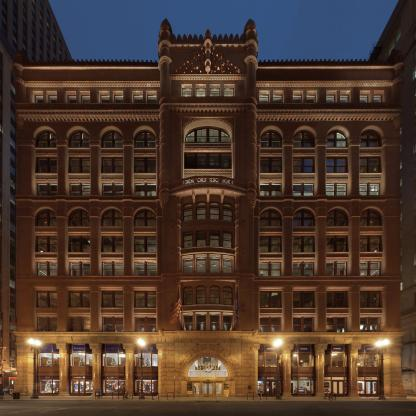Balcony: (170, 175, 247, 196)
Building Outline: (11, 18, 407, 397)
Dont: (374, 339, 391, 400), (27, 338, 42, 399), (274, 338, 283, 400), (137, 338, 145, 399), (123, 390, 133, 400), (324, 392, 336, 400), (11, 392, 21, 399), (95, 389, 102, 399)
Door: (193, 382, 223, 397), (366, 381, 378, 397), (332, 381, 344, 397), (265, 381, 277, 397), (74, 380, 85, 396)
Facade: (17, 63, 401, 397)
Floor: (17, 199, 401, 255), (17, 154, 401, 197), (17, 110, 401, 151), (17, 339, 401, 377), (17, 75, 401, 107), (17, 284, 401, 309), (17, 312, 401, 336), (17, 257, 401, 281)
Floor Slab: (17, 107, 401, 110), (17, 336, 401, 339), (17, 309, 401, 312), (17, 281, 401, 284), (17, 255, 401, 258), (17, 196, 401, 199), (17, 151, 401, 154), (17, 377, 401, 380)
Glass Wall: (201, 356, 215, 377), (187, 358, 200, 377), (216, 358, 228, 377), (298, 381, 310, 394), (139, 380, 151, 393), (139, 354, 151, 367), (106, 354, 118, 367), (73, 354, 85, 367), (40, 354, 52, 367), (40, 380, 52, 393), (107, 380, 118, 393), (266, 354, 277, 367), (299, 354, 310, 367), (332, 354, 343, 367), (366, 354, 376, 367), (324, 381, 331, 394), (291, 381, 297, 394), (358, 381, 364, 394), (53, 380, 59, 393), (152, 380, 158, 393), (120, 380, 126, 393), (54, 354, 60, 367), (152, 354, 158, 367), (119, 354, 125, 367), (87, 354, 93, 367), (258, 354, 264, 367), (292, 354, 298, 367), (324, 354, 330, 367), (358, 354, 364, 367), (86, 381, 92, 393), (258, 381, 264, 393), (333, 382, 337, 394), (339, 382, 343, 394), (373, 382, 377, 394), (367, 382, 371, 394), (74, 381, 78, 393), (136, 380, 139, 393), (135, 354, 138, 367), (278, 354, 281, 367), (80, 381, 83, 393), (312, 381, 314, 394), (103, 380, 105, 393), (103, 354, 105, 367), (71, 354, 73, 367), (312, 354, 314, 367), (345, 354, 347, 367), (345, 381, 346, 394), (378, 354, 379, 367), (280, 381, 281, 393), (72, 381, 73, 393)
Ground Floor: (17, 380, 401, 397)
Molding: (16, 103, 402, 121), (256, 81, 393, 87), (25, 81, 160, 87), (175, 330, 241, 339), (169, 75, 247, 80)
Pillar: (313, 344, 329, 397), (281, 344, 296, 397), (347, 344, 362, 397), (55, 343, 70, 396), (88, 343, 102, 396), (122, 343, 135, 396)
Shop: (365, 345, 377, 352), (140, 345, 151, 352), (265, 346, 277, 352), (73, 345, 85, 351), (258, 377, 281, 380), (291, 377, 313, 380), (332, 346, 343, 352), (299, 346, 310, 352), (107, 345, 118, 351), (41, 345, 52, 351), (103, 377, 125, 379), (71, 377, 92, 379)
Window: (293, 293, 314, 308), (326, 293, 347, 308), (260, 293, 281, 308), (293, 237, 314, 252), (326, 237, 347, 252), (260, 237, 281, 252), (360, 293, 380, 308), (136, 238, 156, 253), (103, 238, 123, 253), (360, 237, 380, 252), (135, 318, 156, 332), (260, 318, 281, 332), (360, 159, 381, 173), (293, 159, 314, 173), (327, 159, 348, 173), (260, 159, 281, 173), (38, 238, 57, 253), (71, 238, 90, 253), (136, 293, 156, 307), (103, 293, 123, 307), (103, 318, 123, 332), (360, 318, 380, 332), (293, 318, 313, 332), (327, 318, 347, 332), (136, 159, 156, 173), (103, 159, 123, 173), (135, 263, 156, 276), (260, 263, 281, 276), (292, 263, 313, 276), (326, 263, 347, 276), (38, 293, 57, 307), (71, 293, 90, 307), (38, 318, 57, 332), (71, 318, 90, 332), (38, 159, 57, 173), (71, 159, 90, 173), (103, 263, 123, 276), (360, 263, 380, 276), (360, 184, 381, 196), (260, 184, 281, 196), (293, 184, 314, 196), (326, 184, 347, 196), (135, 184, 156, 196), (38, 263, 57, 276), (71, 263, 90, 276), (103, 184, 123, 196), (38, 184, 57, 196), (71, 184, 90, 196), (223, 232, 232, 248), (184, 231, 192, 248), (210, 316, 219, 331), (210, 258, 219, 273), (210, 231, 219, 246), (197, 231, 206, 246), (210, 291, 220, 304), (196, 291, 206, 304), (223, 208, 232, 222), (184, 291, 193, 305), (223, 291, 232, 305), (197, 258, 205, 273), (197, 156, 207, 168), (221, 156, 231, 168), (197, 316, 205, 331), (224, 316, 232, 330), (184, 316, 192, 330), (224, 259, 232, 273), (184, 259, 192, 273), (184, 208, 192, 222), (210, 156, 219, 168), (186, 156, 195, 168), (210, 208, 219, 220), (197, 208, 206, 220), (148, 95, 157, 103), (114, 95, 123, 103), (134, 95, 143, 103), (209, 129, 219, 136), (35, 95, 43, 103), (49, 95, 57, 103), (68, 95, 76, 103), (82, 95, 90, 103), (101, 95, 109, 103), (225, 90, 234, 97), (183, 90, 192, 97), (197, 90, 206, 97), (211, 90, 220, 97), (259, 96, 268, 103), (273, 96, 282, 103), (293, 96, 302, 103), (147, 219, 156, 226), (38, 219, 47, 226), (71, 219, 80, 226), (103, 219, 112, 226), (115, 219, 124, 226), (136, 219, 145, 226), (370, 219, 379, 226), (271, 219, 280, 226), (304, 219, 313, 226), (260, 219, 269, 226), (197, 129, 206, 136), (307, 96, 315, 103), (327, 96, 335, 103), (340, 96, 348, 103), (82, 219, 90, 226), (293, 219, 301, 226), (327, 219, 335, 226), (338, 219, 346, 226), (374, 96, 381, 103), (360, 96, 367, 103), (50, 219, 57, 226), (360, 219, 367, 226), (39, 133, 47, 139), (136, 211, 144, 217), (104, 133, 112, 139), (371, 211, 379, 217), (72, 133, 80, 139), (71, 211, 79, 217), (272, 211, 280, 217), (293, 211, 301, 217), (304, 211, 312, 217), (326, 211, 334, 217), (337, 211, 345, 217), (337, 141, 346, 146), (272, 141, 281, 146), (305, 141, 314, 146), (38, 142, 47, 147), (71, 142, 80, 147), (103, 142, 112, 147), (147, 133, 154, 139), (82, 133, 89, 139), (147, 211, 154, 217), (360, 133, 367, 139), (360, 211, 367, 217), (82, 211, 89, 217), (104, 211, 111, 217), (261, 211, 268, 217), (370, 141, 378, 146), (261, 141, 269, 146), (294, 141, 302, 146), (148, 142, 156, 147), (115, 142, 123, 147), (136, 142, 144, 147), (369, 133, 377, 138), (304, 133, 312, 138), (337, 133, 345, 138), (38, 212, 46, 217), (272, 133, 280, 138), (198, 138, 207, 142), (210, 138, 219, 142), (50, 133, 56, 139), (115, 133, 121, 139), (115, 211, 121, 217), (221, 138, 230, 142), (327, 141, 334, 146), (83, 142, 90, 147), (137, 133, 144, 138), (294, 133, 301, 138), (327, 133, 334, 138), (49, 212, 56, 217), (262, 133, 269, 138), (186, 138, 194, 142), (360, 141, 366, 146), (50, 142, 56, 147), (187, 132, 194, 136), (221, 132, 228, 136), (197, 286, 206, 289), (184, 204, 192, 207), (184, 287, 192, 290), (197, 203, 206, 205), (210, 203, 219, 205), (210, 287, 219, 289), (223, 205, 232, 207), (224, 288, 232, 290)
Window Hole: (185, 123, 232, 143), (133, 125, 157, 148), (99, 125, 123, 148), (66, 125, 90, 148), (33, 125, 57, 148), (293, 125, 317, 148), (326, 125, 350, 148), (360, 125, 383, 148), (260, 125, 283, 148), (133, 206, 157, 228), (259, 206, 283, 228), (326, 206, 350, 228), (360, 206, 383, 228), (34, 206, 57, 228), (67, 206, 90, 228), (100, 206, 123, 228), (293, 206, 316, 228), (35, 291, 57, 308), (134, 291, 156, 308), (102, 291, 124, 308), (68, 291, 90, 308), (260, 291, 282, 308), (293, 291, 315, 308), (326, 291, 348, 308), (35, 157, 57, 174), (134, 157, 156, 174), (102, 157, 124, 174), (68, 157, 90, 174), (35, 236, 57, 253), (134, 236, 156, 253), (102, 236, 124, 253), (68, 236, 90, 253), (260, 235, 282, 252), (293, 235, 315, 252), (326, 235, 348, 252), (360, 291, 381, 308), (360, 235, 381, 252), (360, 157, 382, 173), (260, 157, 282, 173), (293, 157, 315, 173), (327, 157, 349, 173), (224, 84, 235, 97), (181, 84, 192, 97), (196, 84, 207, 97), (210, 84, 221, 97), (145, 91, 156, 103), (33, 91, 44, 103), (46, 91, 57, 103), (65, 91, 76, 103), (79, 91, 90, 103), (98, 91, 109, 103), (112, 91, 123, 103), (132, 91, 143, 103), (259, 91, 270, 103), (273, 91, 284, 103), (293, 91, 304, 103), (326, 91, 337, 103), (340, 91, 351, 103), (374, 91, 384, 103), (307, 91, 317, 103), (360, 91, 370, 103)
